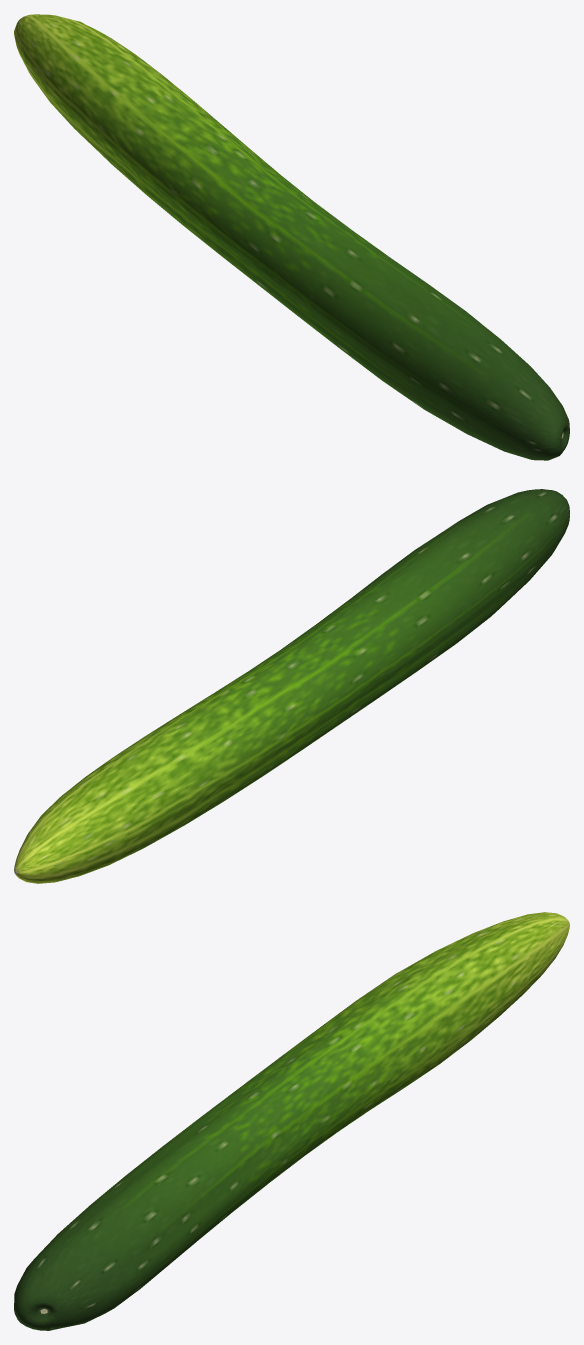
Rendered from huanggua.fbx.
3 views of the same model, one above another, from view 1: azimuth 30°, elevation 25°; view 2: azimuth 150°, elevation 25°; view 3: azimuth 330°, elevation 25° (orthographic). The views are drawn at different scales.
Visible parts, largest first — view 1: Cucumber_03; view 2: Cucumber_03; view 3: Cucumber_03.
Boxes of the visible parts, x1,y1,x2,y2 form: Cucumber_03: [14, 14, 569, 460]; Cucumber_03: [14, 489, 569, 883]; Cucumber_03: [14, 912, 569, 1330].
Bounding box in the file's own units: 3.01 × 3.03 × 30.27.
